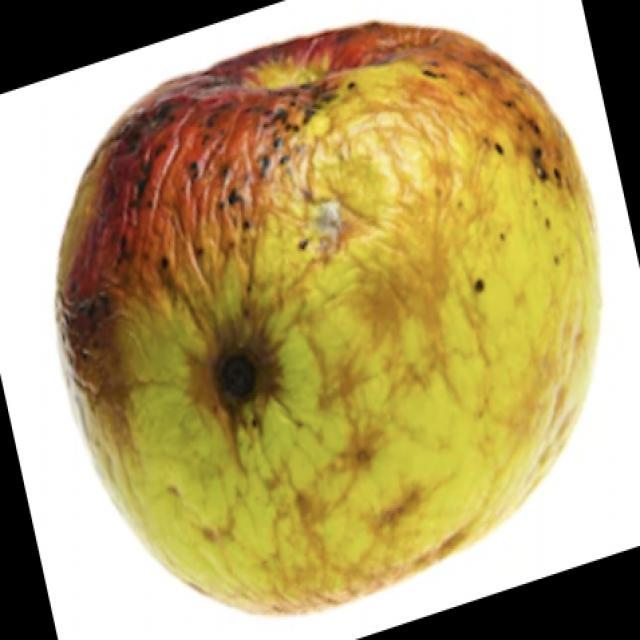Rotten: (83, 35, 640, 583)
